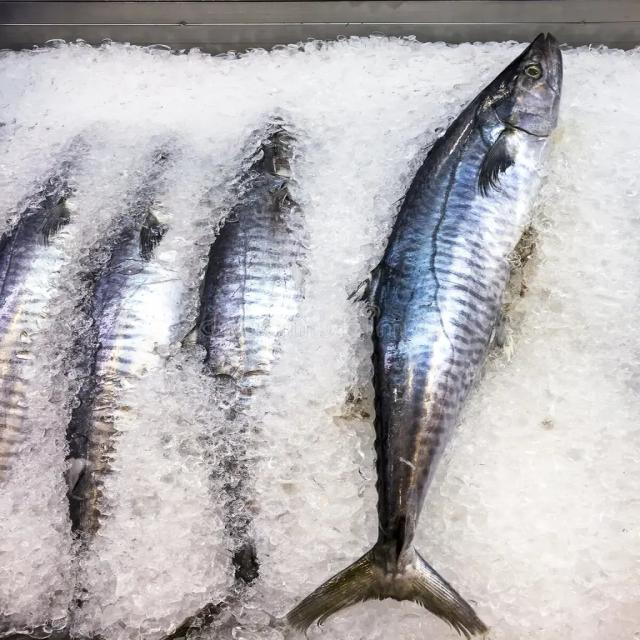seer: (290, 38, 561, 639)
